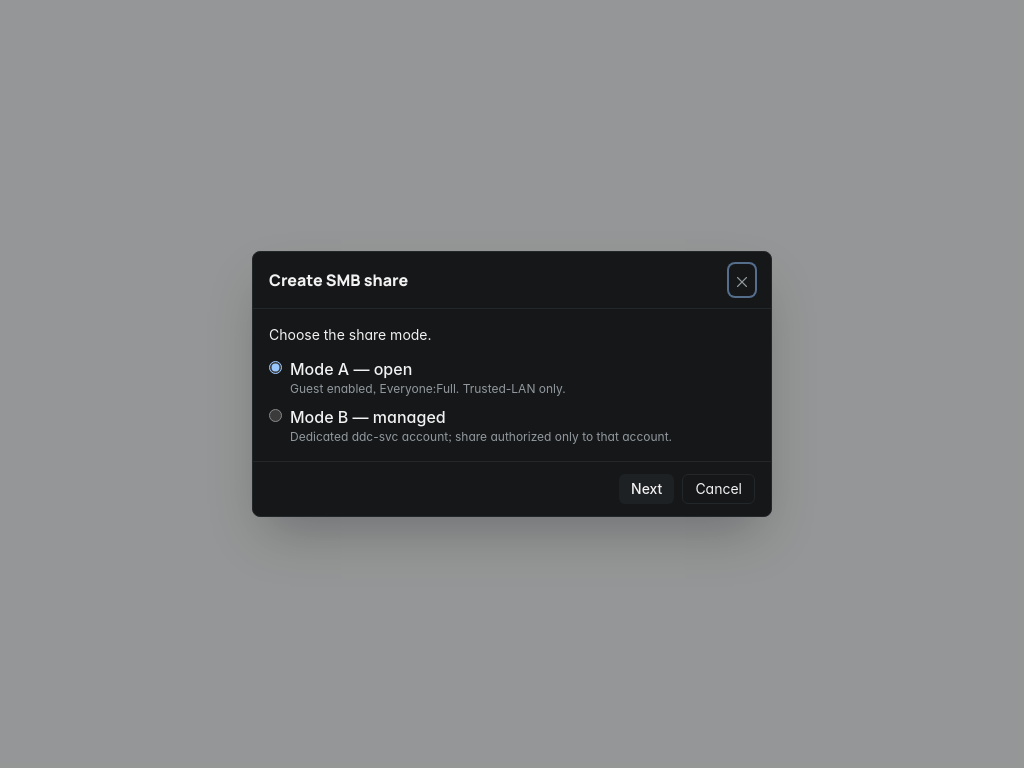
Scenario: ShareCreateWizard › preview shows host hostname and share UNC
The width and height of the screenshot is (1024, 768).
Click the button "Next" at (647, 489), box [619,474,674,504]
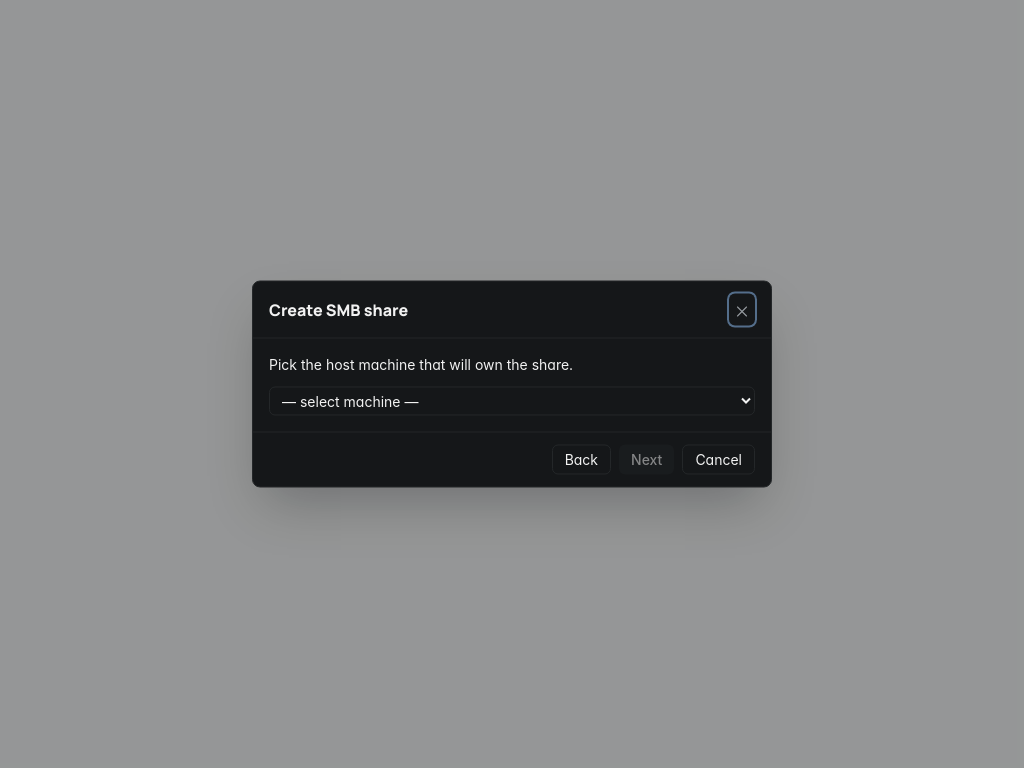
Select "lanPC (192.168.10.20)" in the dropdown at (512, 401), box [269,386,755,416]
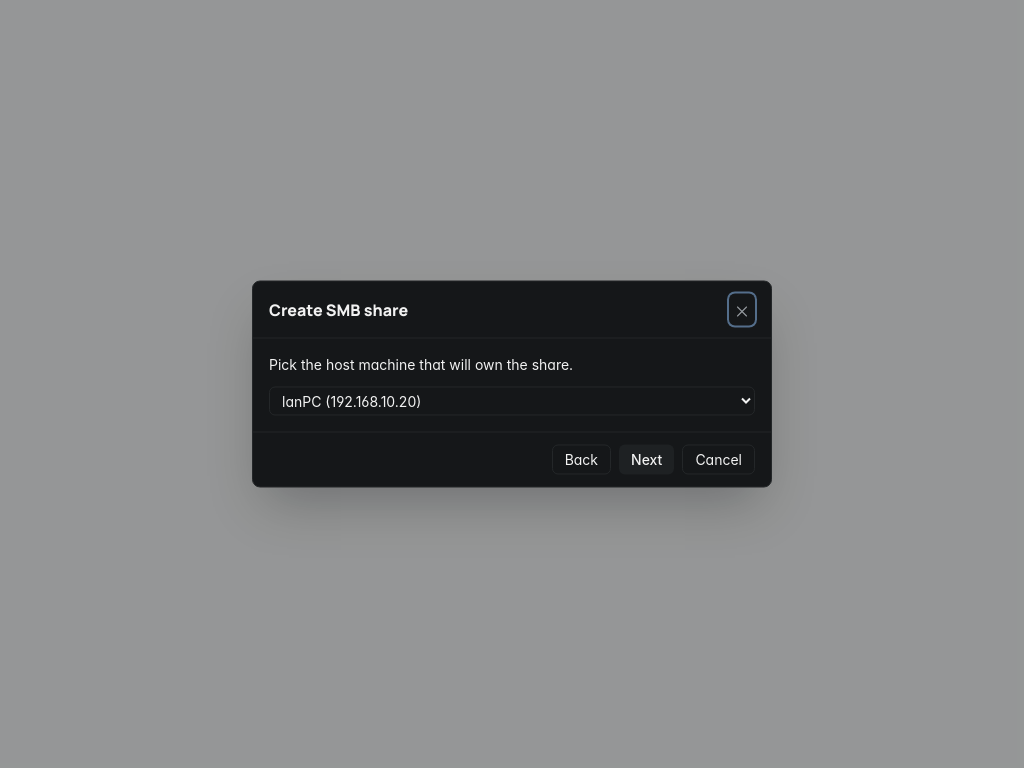
Click the button "Next" at (647, 460), box [619,444,674,474]
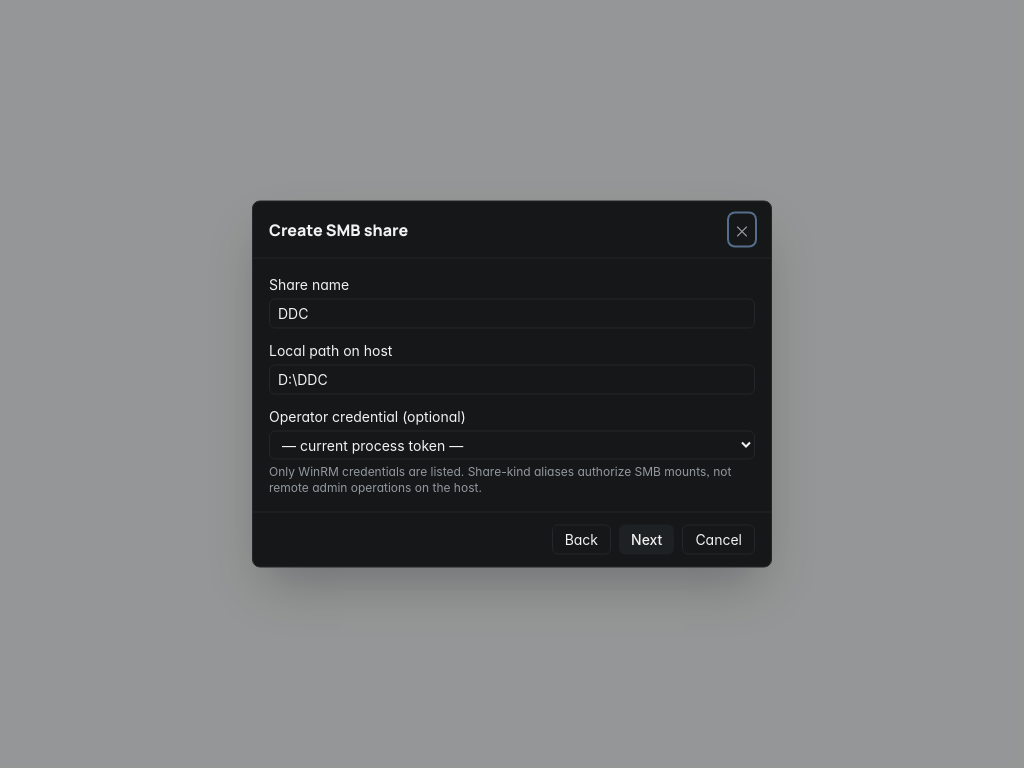
Click the button "Next" at (647, 540), box [619,524,674,554]
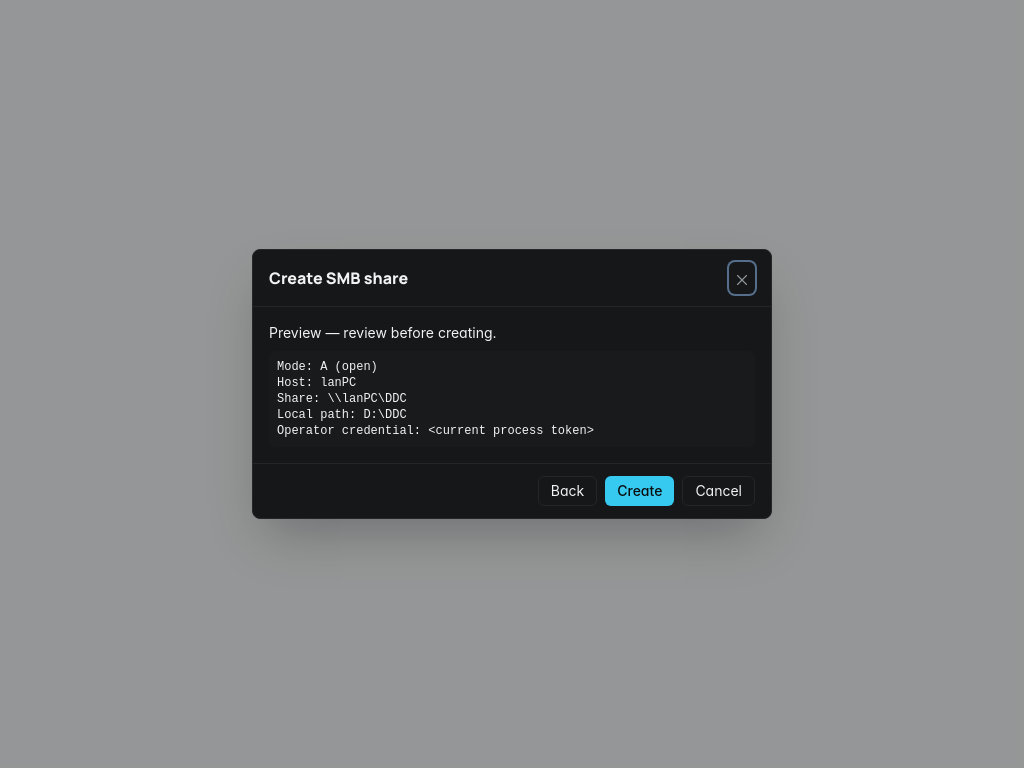
Check: the text "lanPC" is shown, box [277,360,594,438]
Check: the text "\\\\lanPC\\DDC" is shown, box [277,360,594,438]
